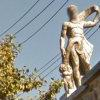Statue: (52, 2, 96, 83)
